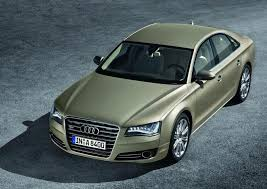car: (50, 13, 261, 164)
